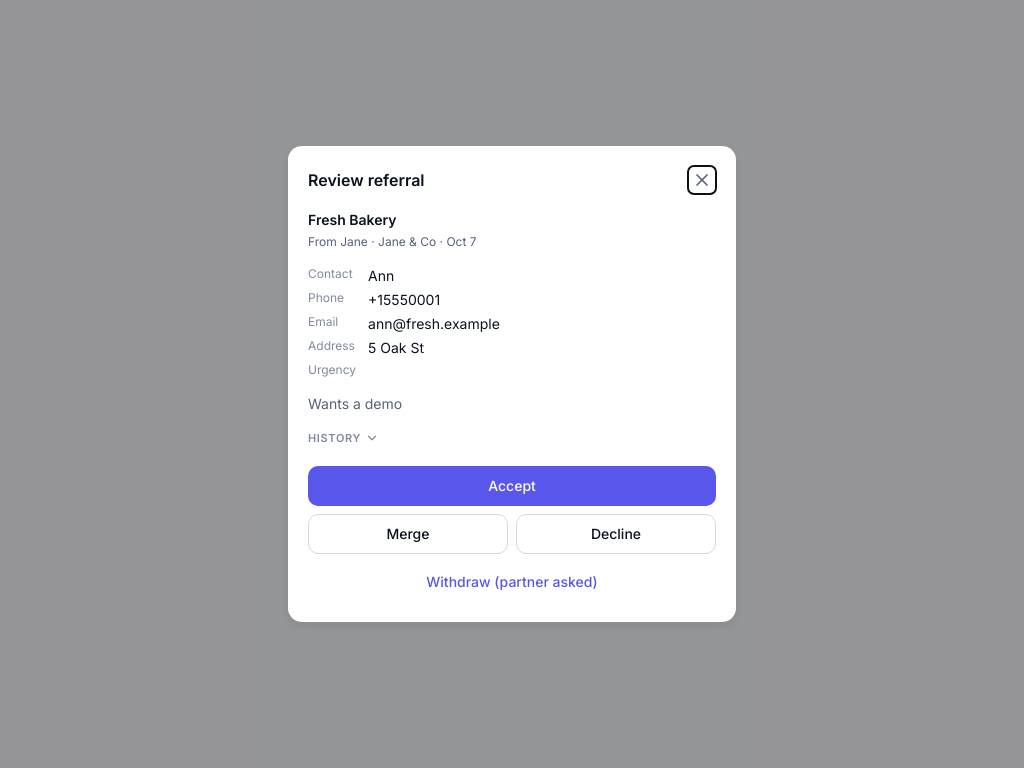
Scenario: ReviewReferralSheet › offers the referral's history, collapsed to start
expect the text "Oct 7 · Partner" is not shown: met
What coordinates should you click on to do the following:
click the button "HISTORY"
I would click on:
 (344, 438)
Its box is [308,430,379,446].
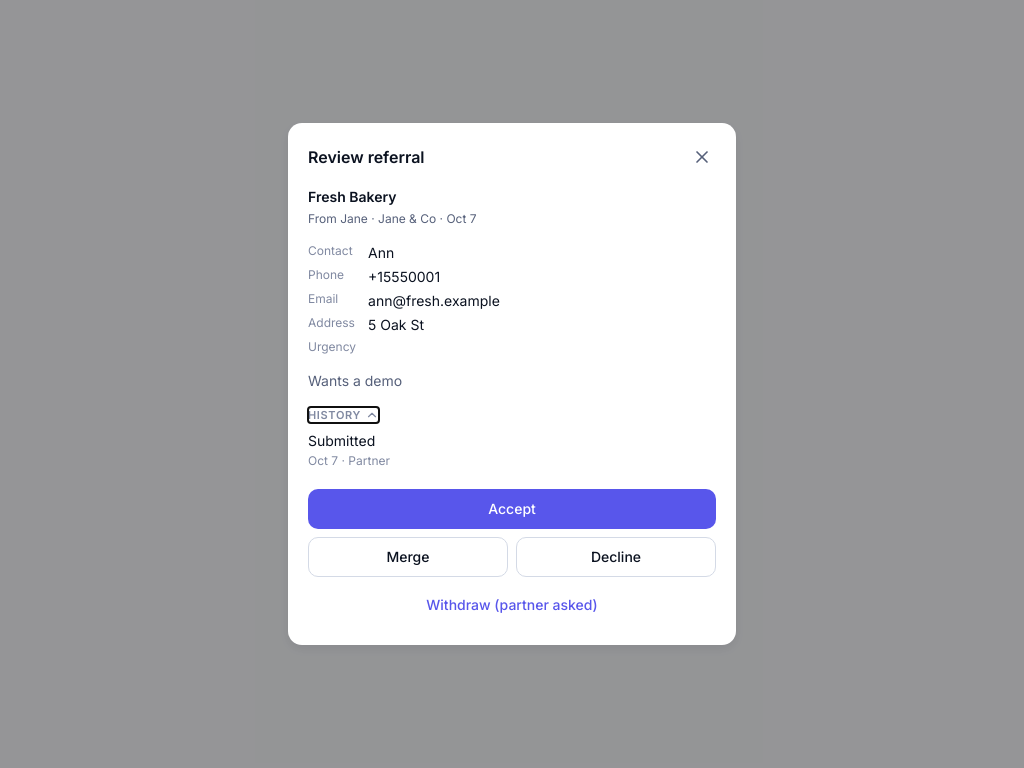
expect the text "Oct 7 · Partner" is shown: met, box [308,453,390,468]
